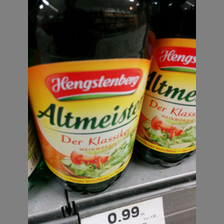vinegar: (29, 1, 155, 193), (137, 1, 195, 167)
